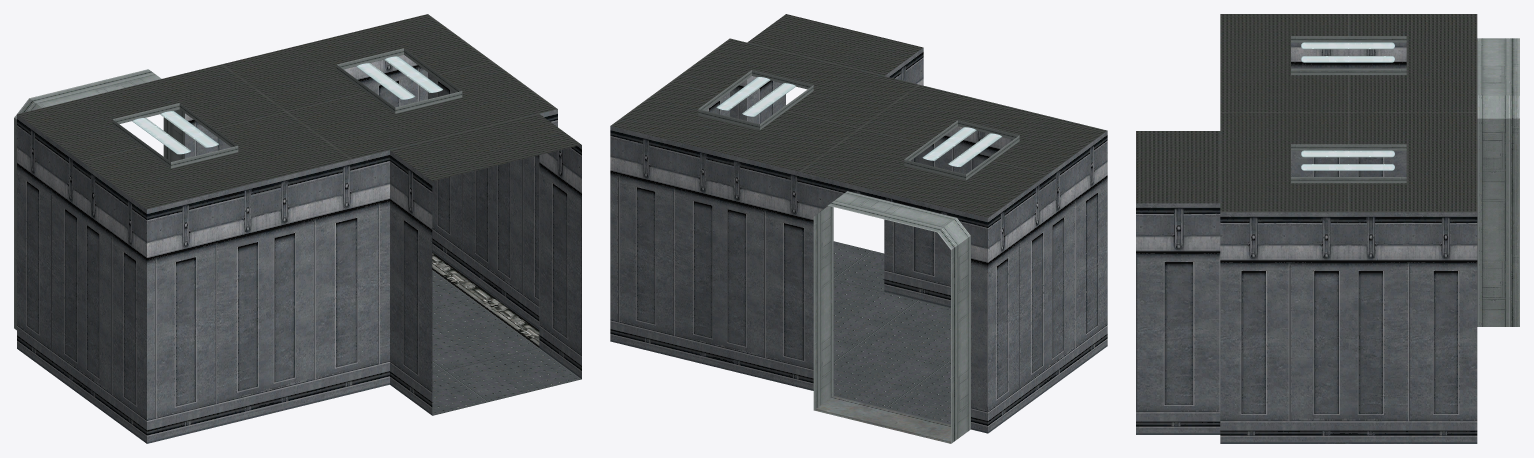
Rendered from mun_all_military_base_guard_house_impl_s01_r1_foyer_mesh_r4.fbx.
3 views of the same model, side by side, from view 1: azimuth 30°, elevation 25°; view 2: azimuth 150°, elevation 25°; view 3: azimuth 270°, elevation 25° (orthographic). The views are drawn at different scales.
Parts seen in each view (by area): view 1: mesh_node; view 2: mesh_node; view 3: mesh_node.
Boxes of the visible parts, bbox=[...] form: mesh_node: bbox=[14, 14, 581, 443]; mesh_node: bbox=[610, 14, 1107, 443]; mesh_node: bbox=[1136, 14, 1519, 443].
Size of the model in its own units: 5.5 by 3.08 by 4.5.
